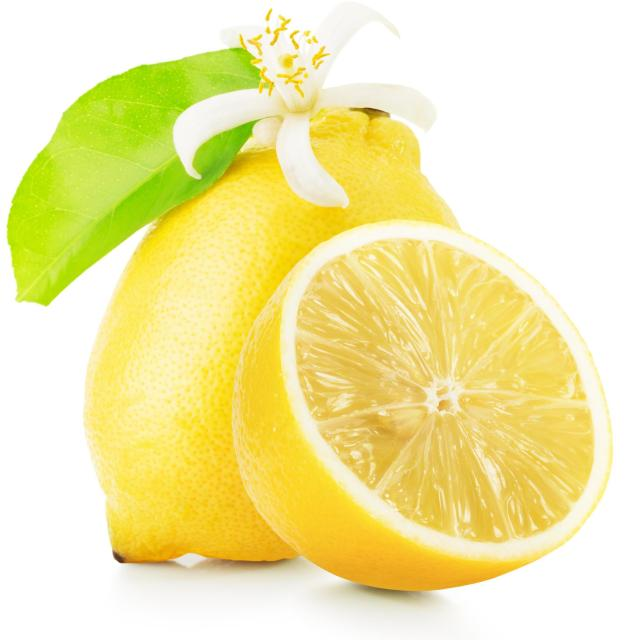lemon: (220, 212, 618, 597)
